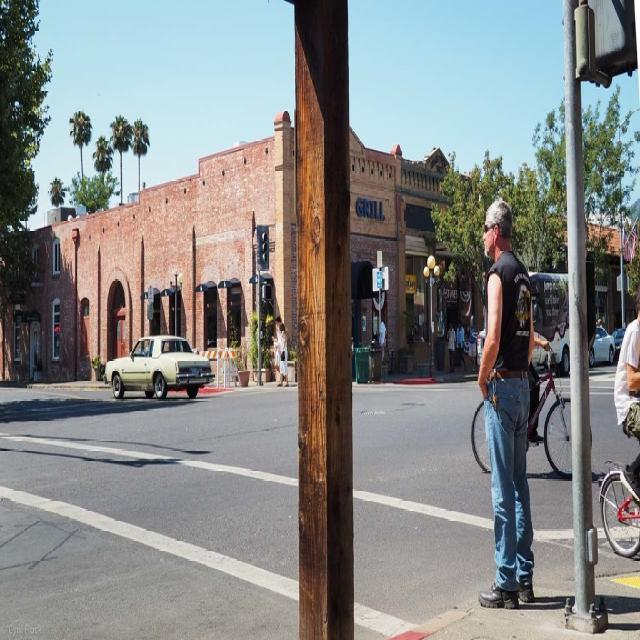traffic light: (258, 220, 269, 271)
